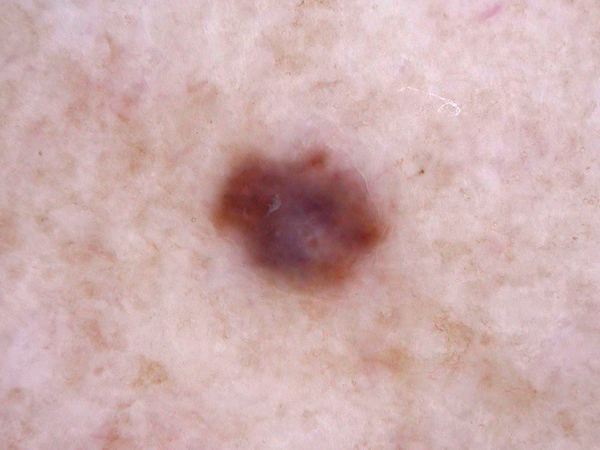Color changes: (287, 236, 330, 273)
Scaly: (263, 189, 287, 213)
